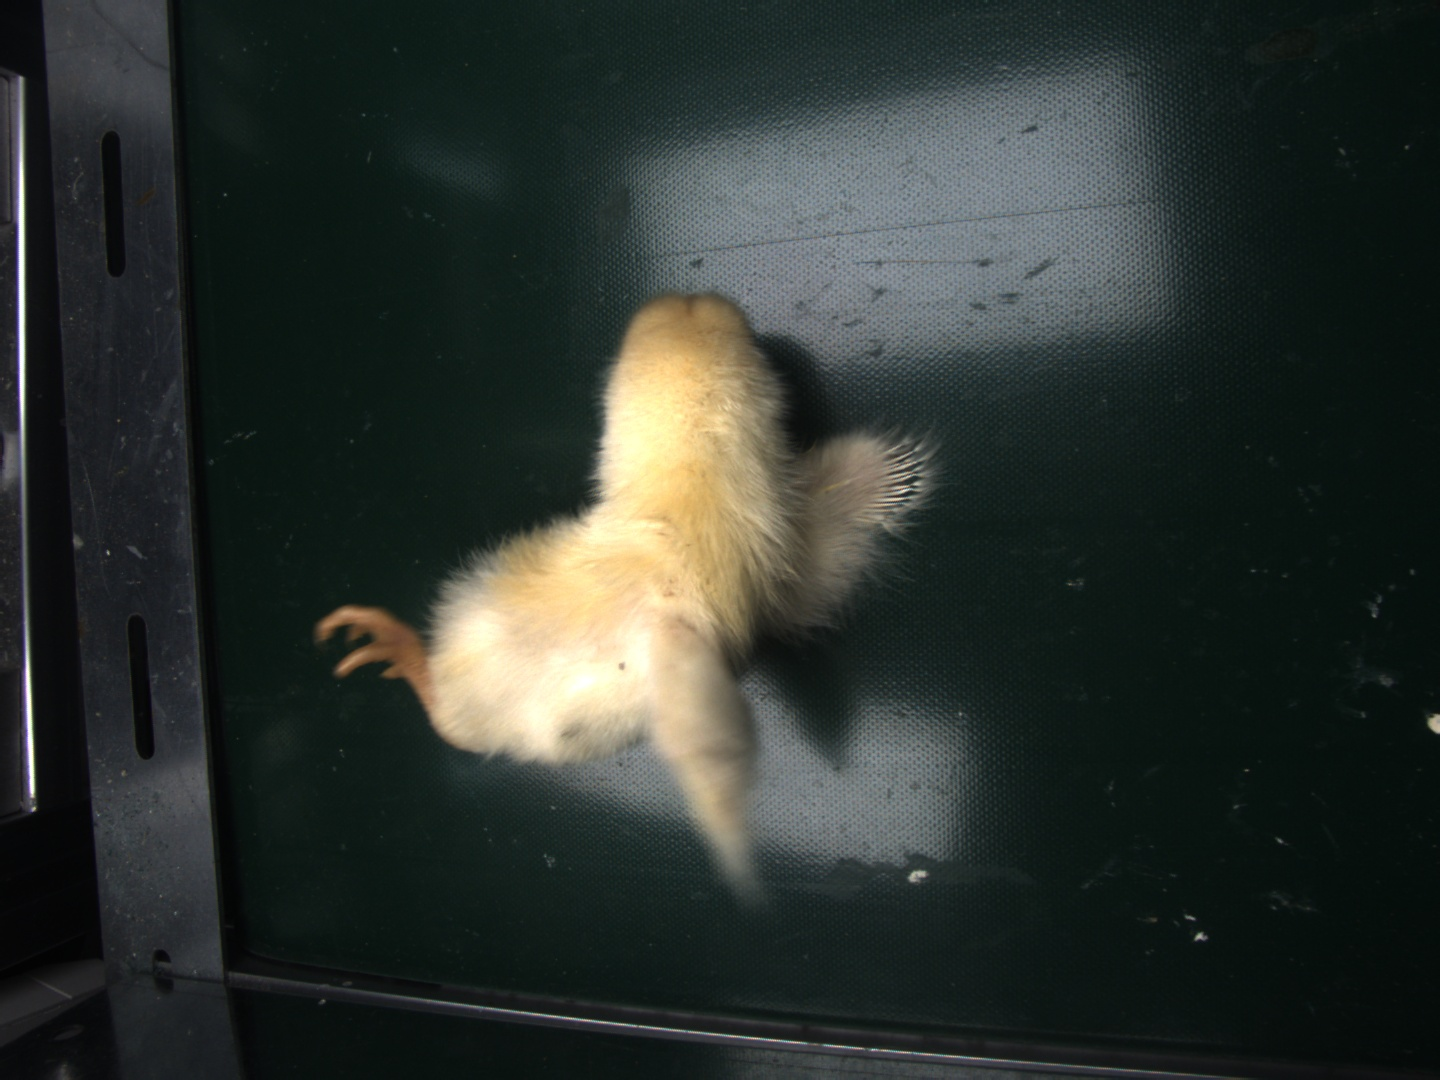male: (873, 442, 921, 518)
